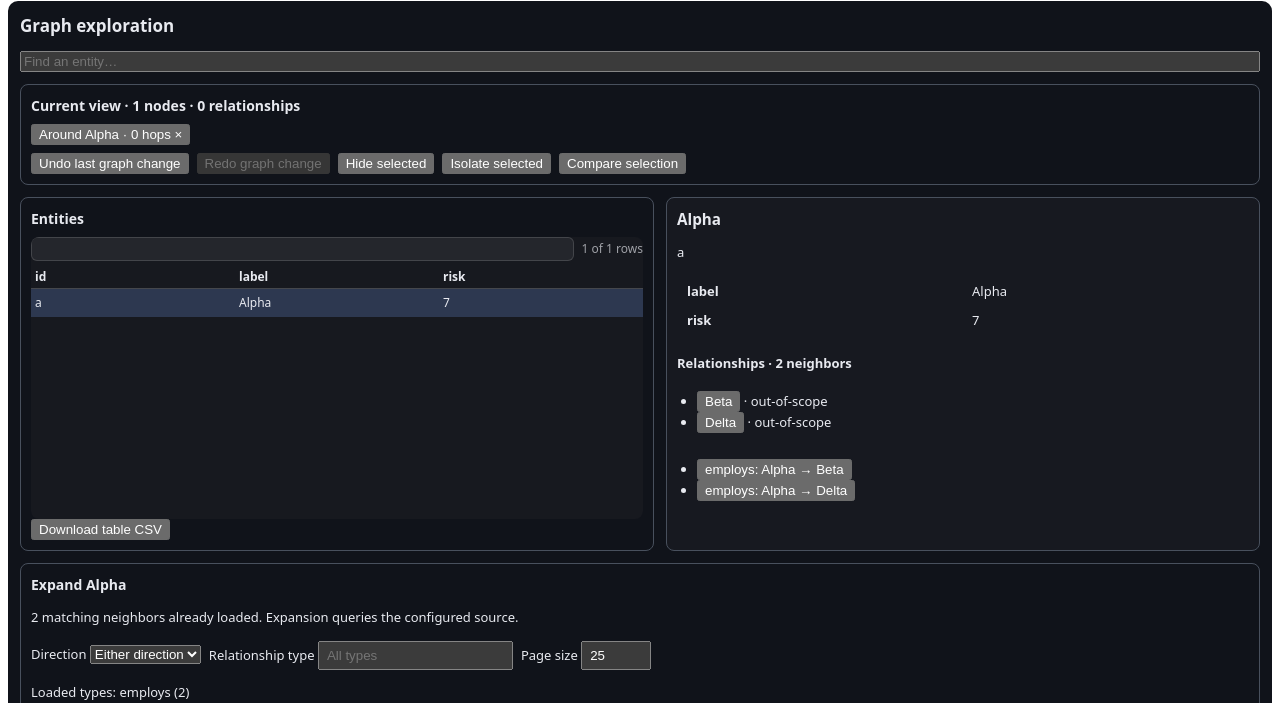
Test: GraphExplorer investigation journeys › discards the displayed continuation when undo changes the saved expansion stack
Step 1. Replace the text in the number field named "Expansion page size" with "1" → [616, 655], box 581,641 -> 651,670
(page scrolled)
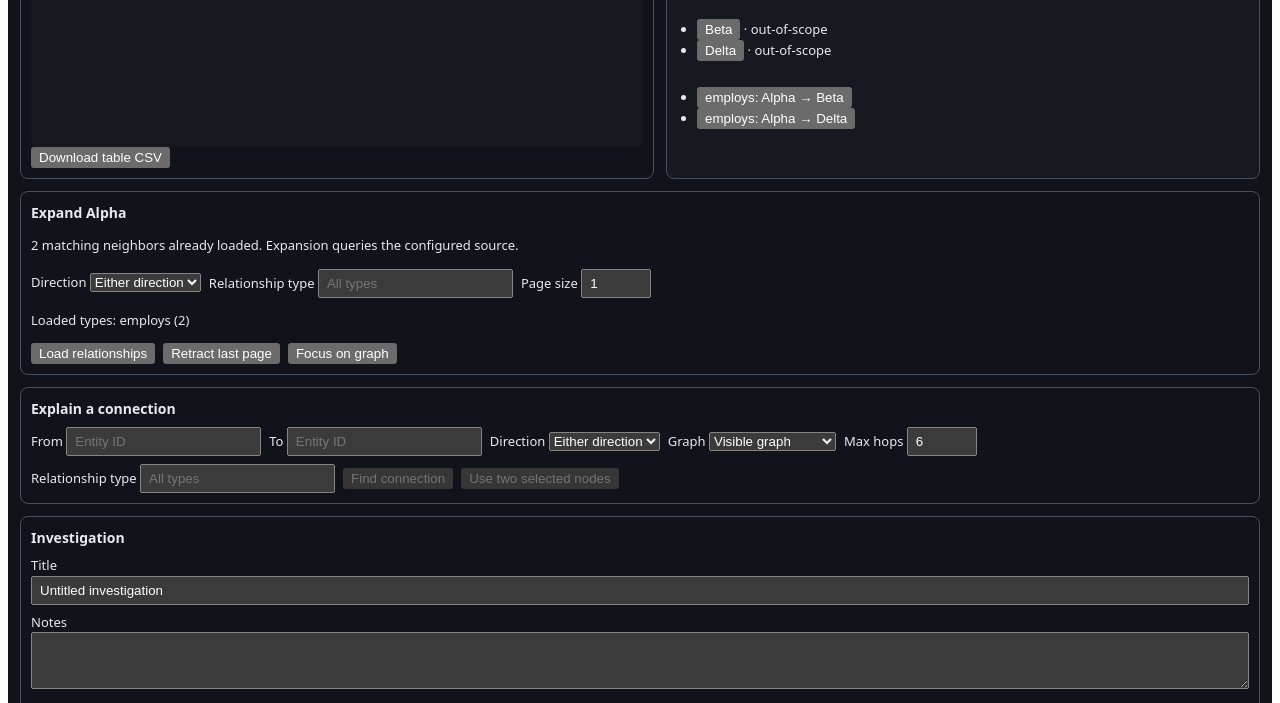
Step 2. Click the button "Load relationships" → [93, 354], box 31,343 -> 155,364
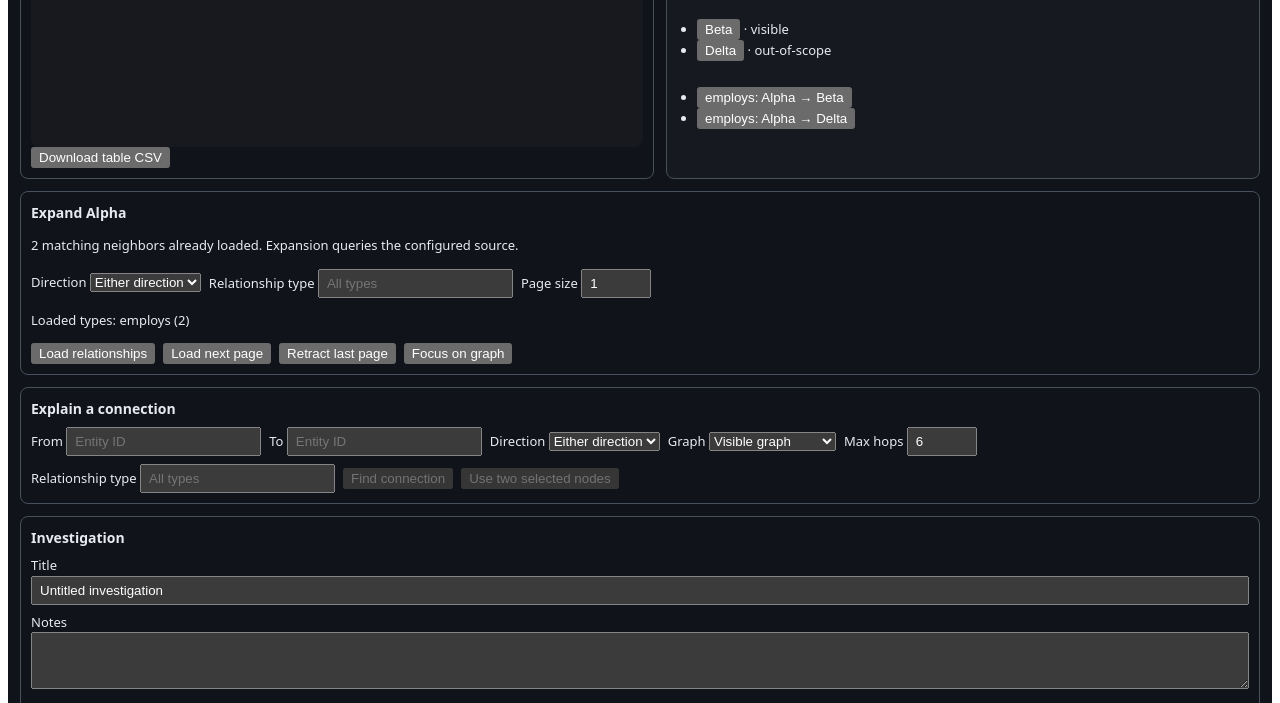
Check: the button "Load next page" is shown, box 163,343 -> 271,364
